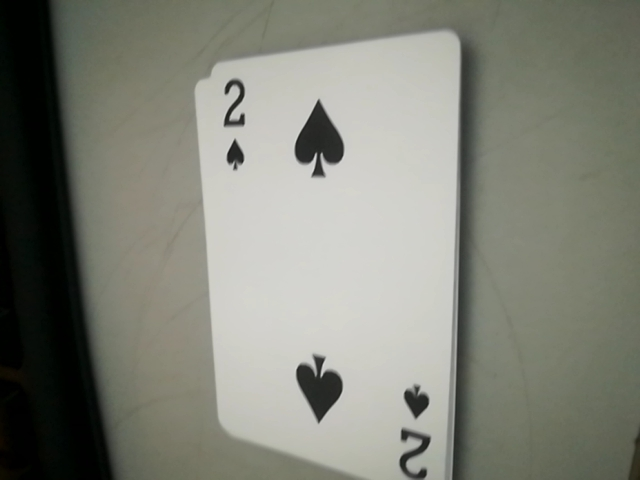ht 2: (204, 71, 262, 185), (391, 377, 442, 480)
